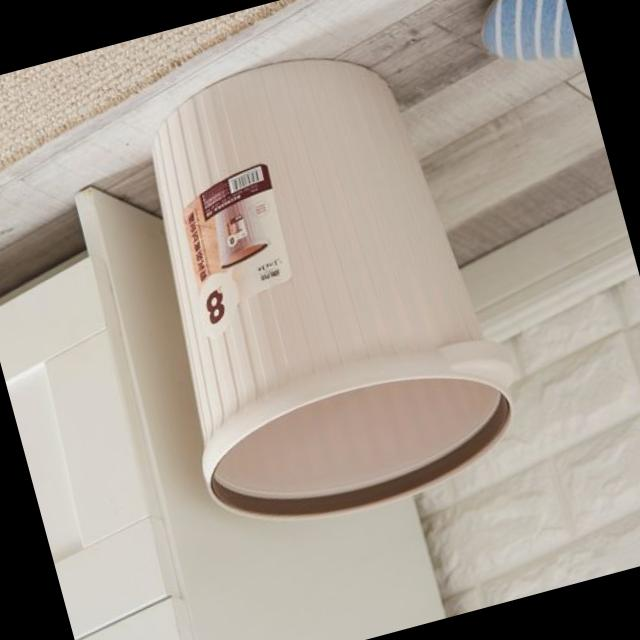dustbin: (98, 14, 544, 552)
